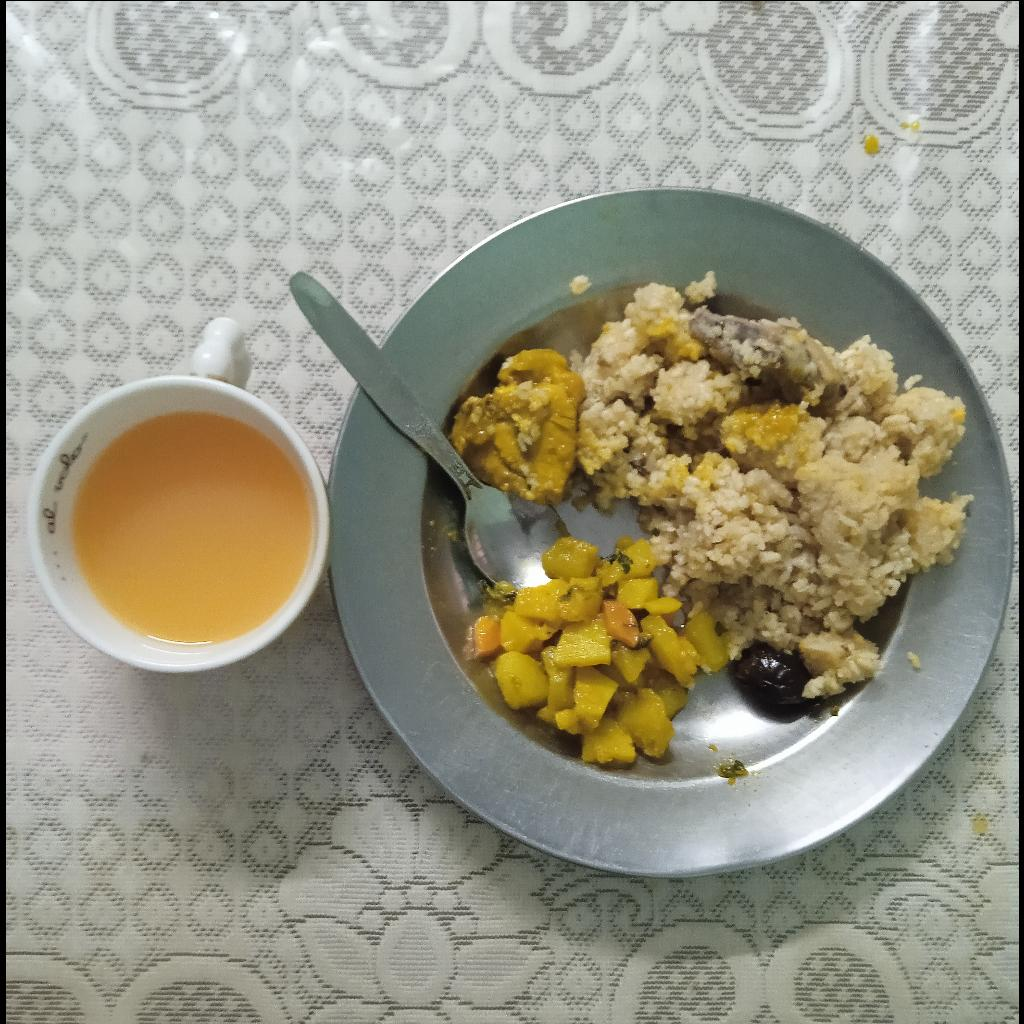biriyani: (570, 272, 977, 693)
chicken: (447, 346, 588, 506)
dates: (729, 644, 827, 724)
juice: (71, 410, 312, 644)
vegetable: (469, 538, 731, 769)
